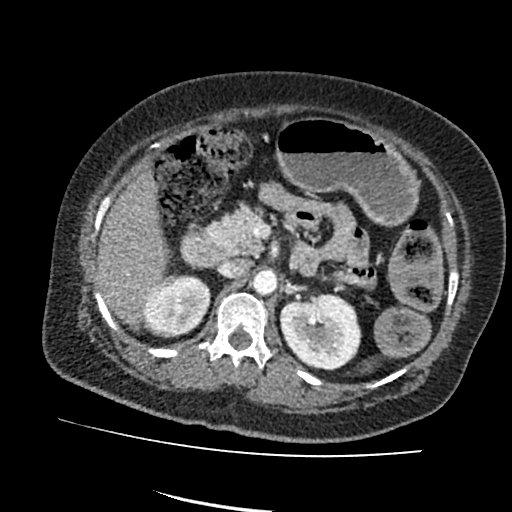aorta: (252, 268, 278, 296)
